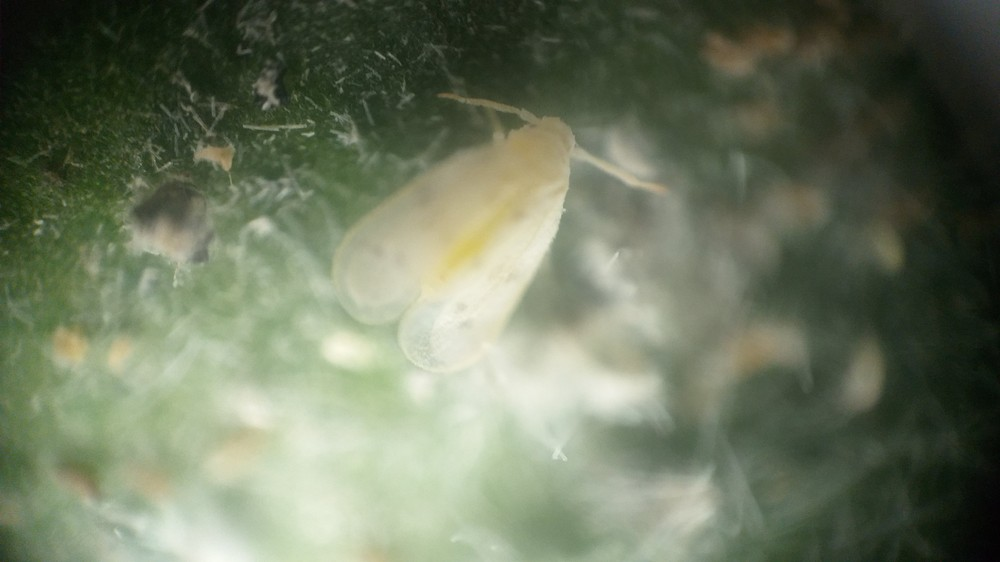Mosca Blanca: (311, 73, 689, 392)
